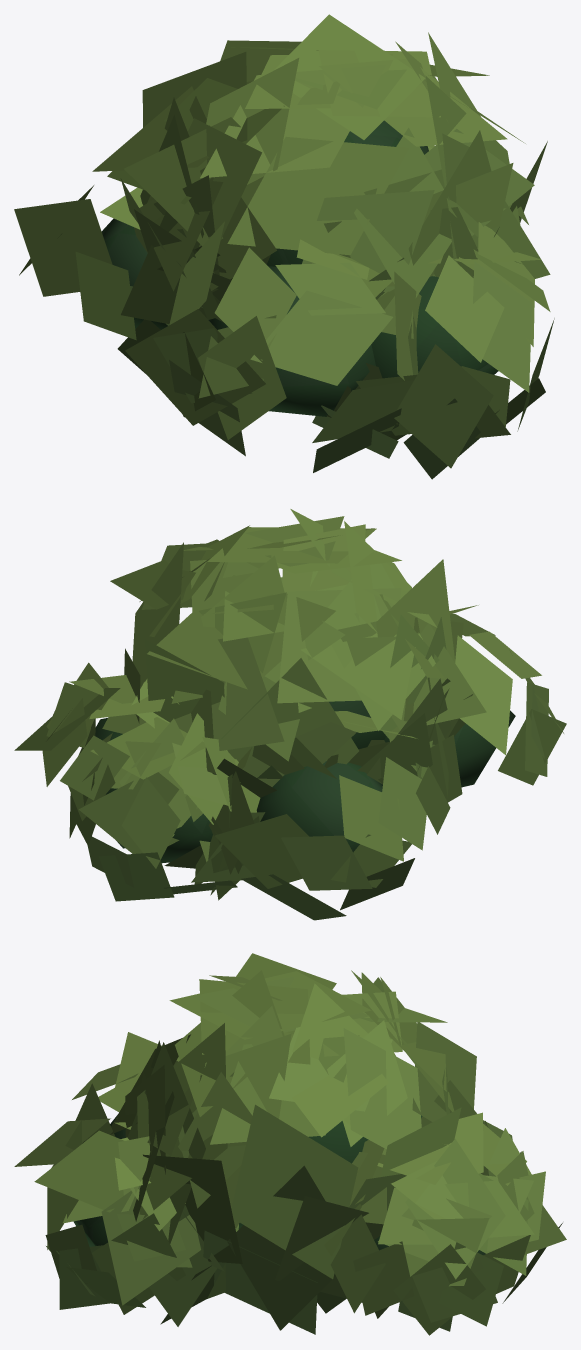
File: shrub.glb
The picture shows the model from 3 angles, top to bottom: view 1: azimuth 30°, elevation 25°; view 2: azimuth 150°, elevation 25°; view 3: azimuth 270°, elevation 25°; orthographic projection. The views are drawn at different scales.
Parts seen in each view (by area): view 1: shrub-b, shrub-c, shrub-a; view 2: shrub-c, shrub-b, shrub-a; view 3: shrub-c, shrub-b, shrub-a.
Boxes of the visible parts, x1=… form: shrub-b: x1=14, y1=14, x2=547, y2=440; shrub-c: x1=107, y1=50, x2=534, y2=472; shrub-a: x1=92, y1=32, x2=554, y2=479; shrub-c: x1=14, y1=509, x2=566, y2=895; shrub-b: x1=110, y1=516, x2=451, y2=920; shrub-a: x1=68, y1=524, x2=486, y2=901; shrub-c: x1=72, y1=972, x2=534, y2=1335; shrub-b: x1=47, y1=970, x2=521, y2=1313; shrub-a: x1=14, y1=953, x2=566, y2=1334.
Bounding box in the file's own units: 0.6722 × 0.5368 × 0.7924.
